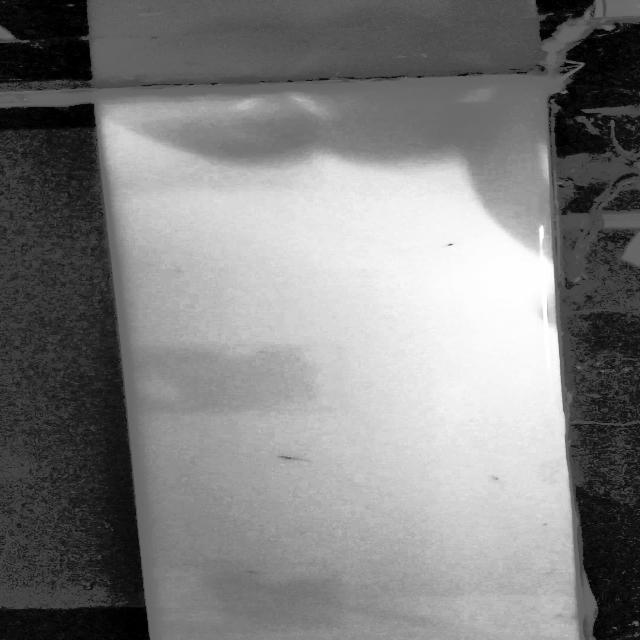shrimp: (270, 452, 312, 463), (437, 238, 462, 253), (238, 569, 266, 582), (486, 472, 508, 486)
